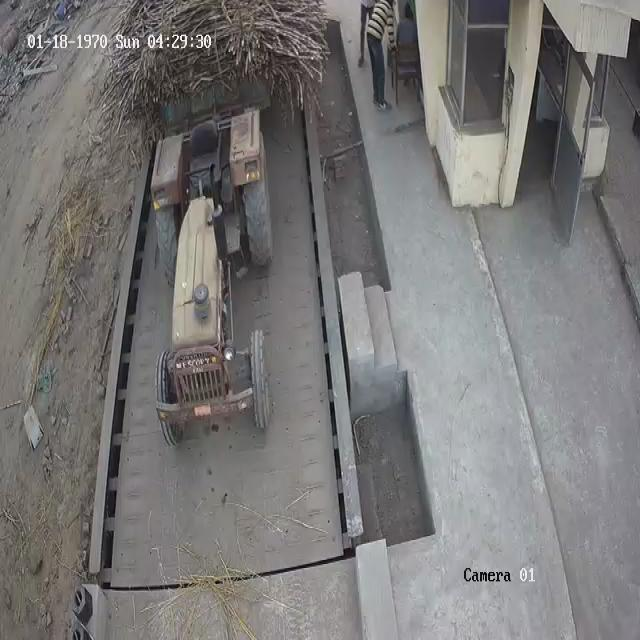Tratores - v5 YOLO V8L 2024-11-13: (143, 114, 296, 450)
